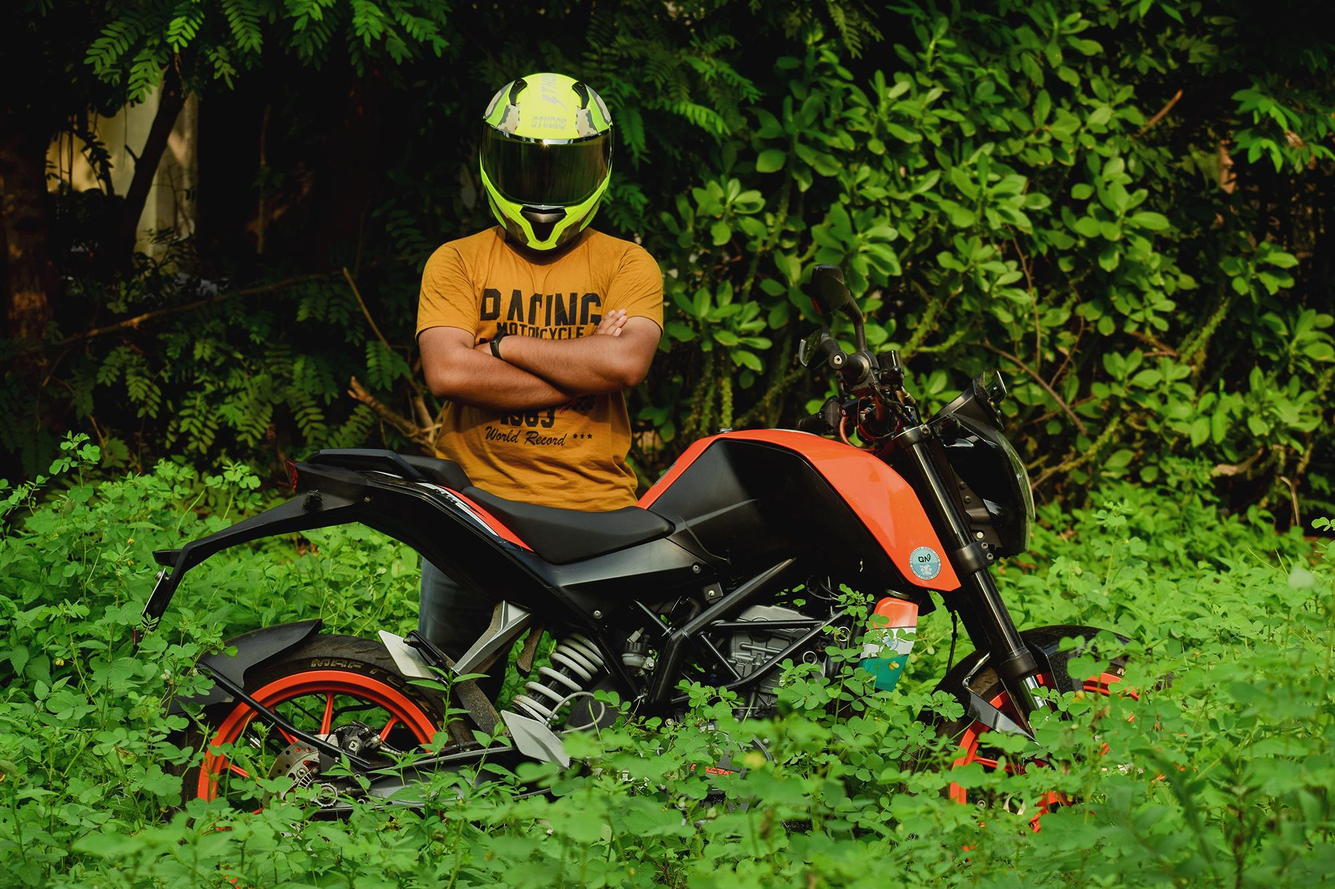helmet: (478, 71, 616, 255)
